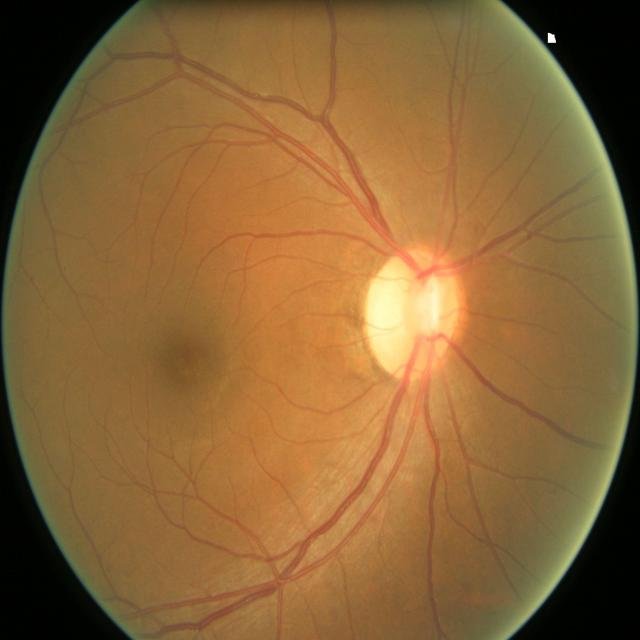OC: (374, 276, 440, 348)
OD: (364, 246, 466, 378)
